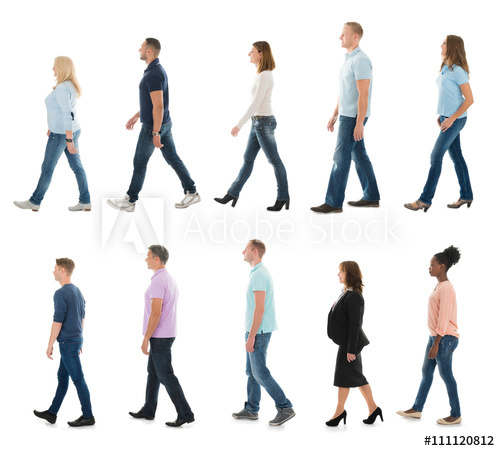NOTSAFE: (133, 36, 173, 139), (338, 19, 373, 132), (145, 241, 180, 345), (43, 54, 82, 147), (241, 38, 277, 138), (50, 256, 86, 354), (437, 33, 471, 135), (243, 238, 276, 340), (426, 248, 458, 342), (337, 260, 364, 351)
